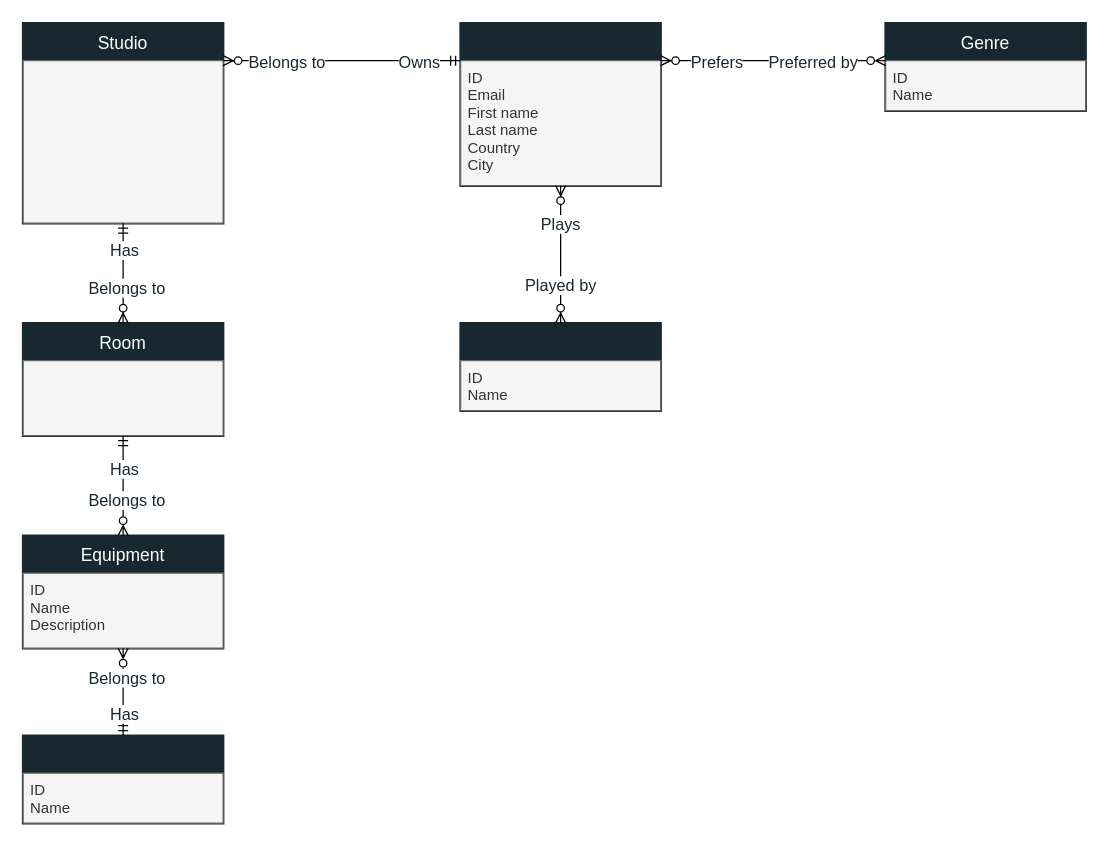
The diagram is 1108 pixels wide and 845 high, and some of its shapes have lost their labels. Here are the shapes that lost their labels. From the top down, the box of each, then its label:
(459, 21, 661, 186): User
(22, 59, 223, 223): ID Name Email Phone Coordinates Country City Booking
(459, 321, 661, 411): Instrument
(22, 359, 223, 436): ID Name Desciption
(21, 734, 224, 824): Equipment type
